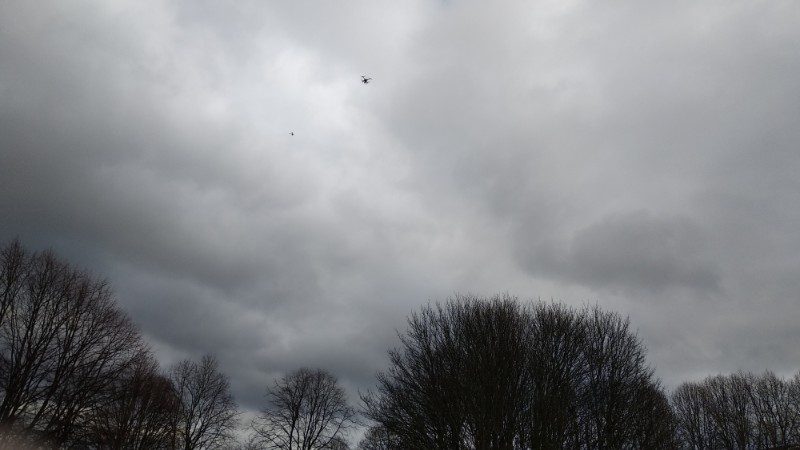drone: (359, 76, 373, 86)
